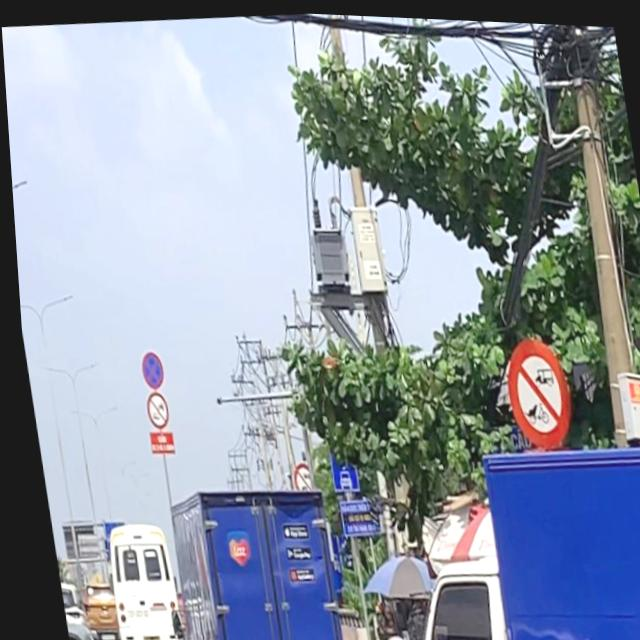Cam dung xe va do xe: (131, 346, 162, 391)
